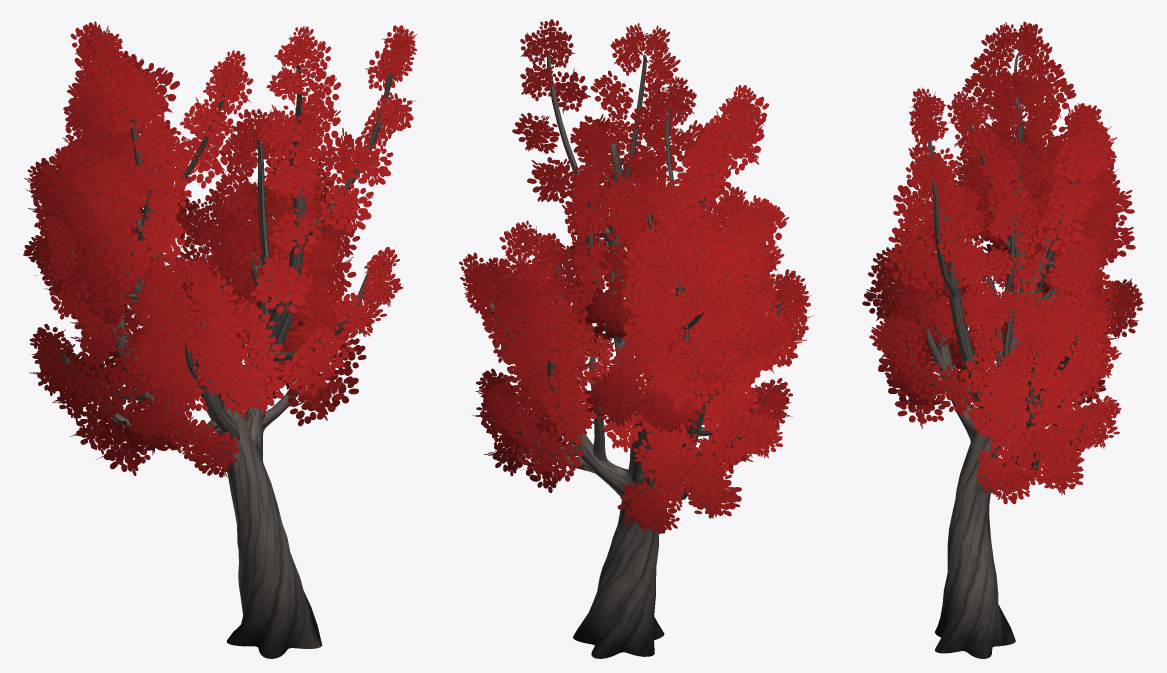
Rendered from TwistedTree_2.gltf.
3 renders of one model, left to right at view 1: azimuth 30°, elevation 25°; view 2: azimuth 150°, elevation 25°; view 3: azimuth 270°, elevation 25°, orthographic. The views are drawn at different scales.
Parts seen in each view (by area): view 1: TwistedTree_2; view 2: TwistedTree_2; view 3: TwistedTree_2.
Part boxes in pixels (x1=…): TwistedTree_2: x1=23, y1=21, x2=416, y2=658; TwistedTree_2: x1=459, y1=19, x2=814, y2=658; TwistedTree_2: x1=862, y1=21, x2=1144, y2=658.
Size of the model in its own units: 10.56 by 18.95 by 9.2.
2 materials, 2 textured.
